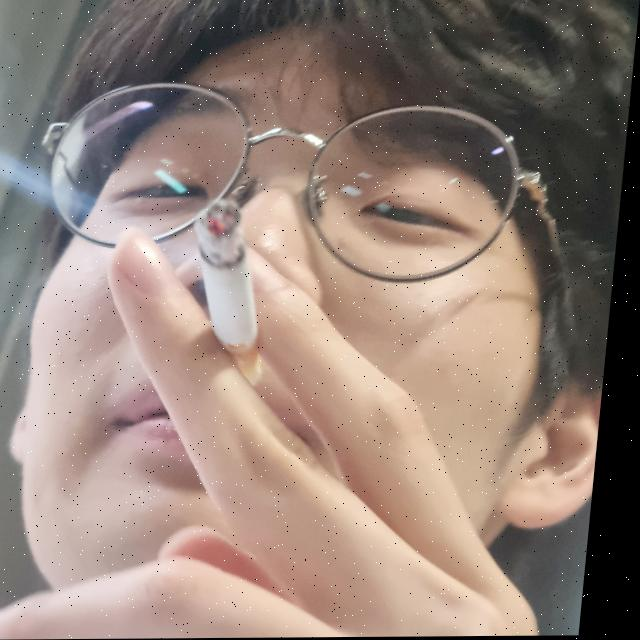cigarette: (186, 202, 284, 387)
